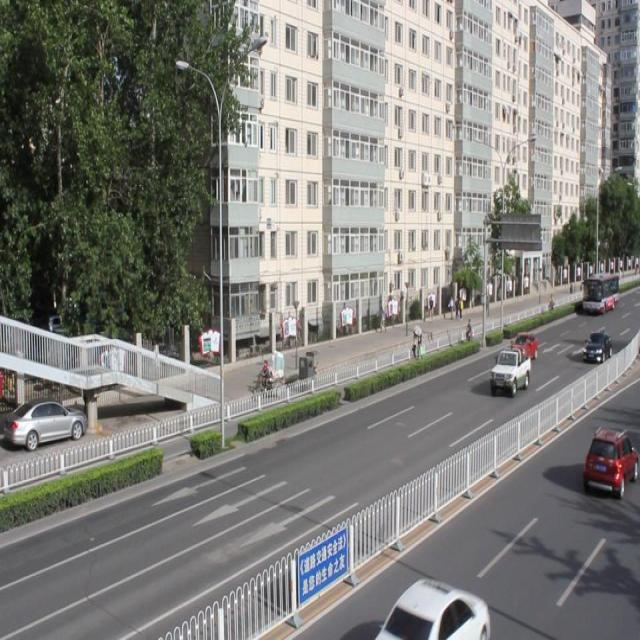car: (379, 577, 488, 640), (581, 425, 640, 496), (488, 346, 530, 395), (580, 328, 610, 364), (506, 331, 537, 360)
